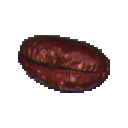ng: (14, 29, 117, 98)
